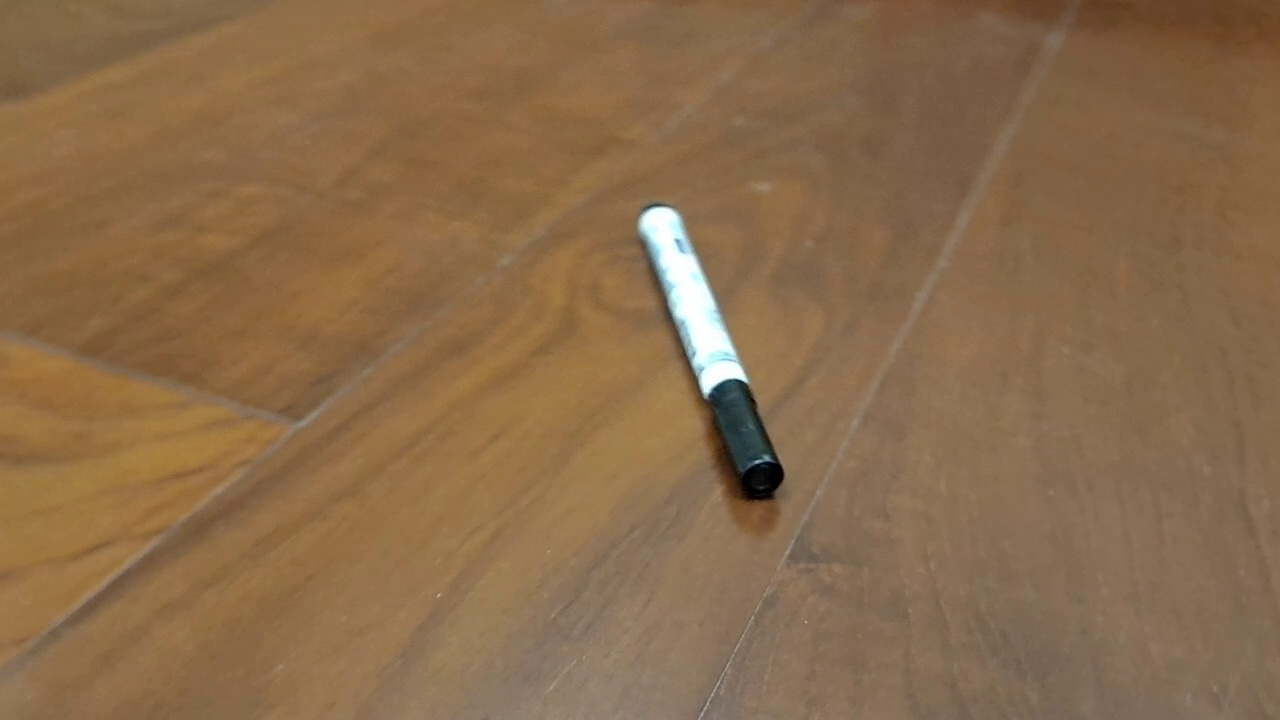pen: (636, 201, 785, 500)
